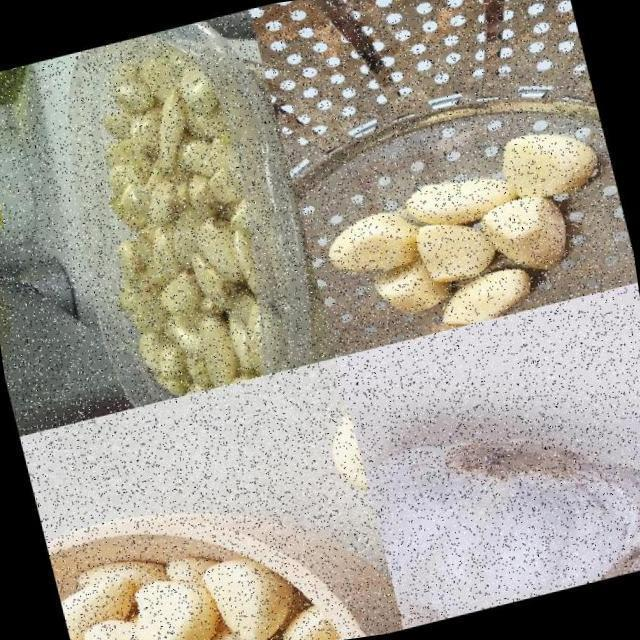garlic: (56, 19, 337, 410), (302, 109, 640, 355), (356, 386, 640, 632), (48, 503, 355, 640), (306, 356, 370, 509)
